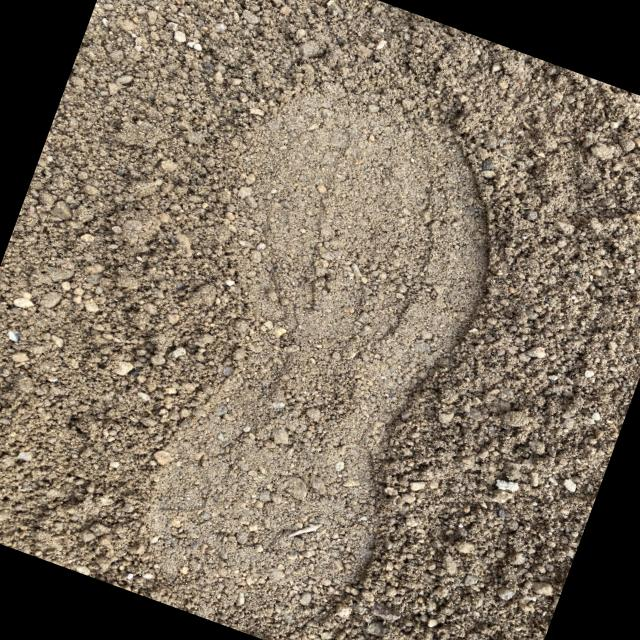human_foot_print: (117, 65, 526, 620)
